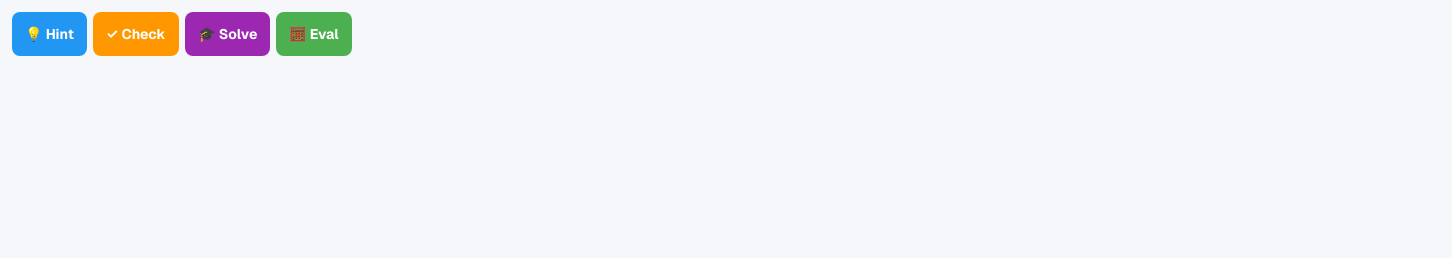
Scenario: MathTutorTool: a cloud refusal › a real outage still says to check the internet
Step 1. Click the button with test id "math-tutor-hint" → {"x": 49, "y": 34}, box [12,12,87,56]
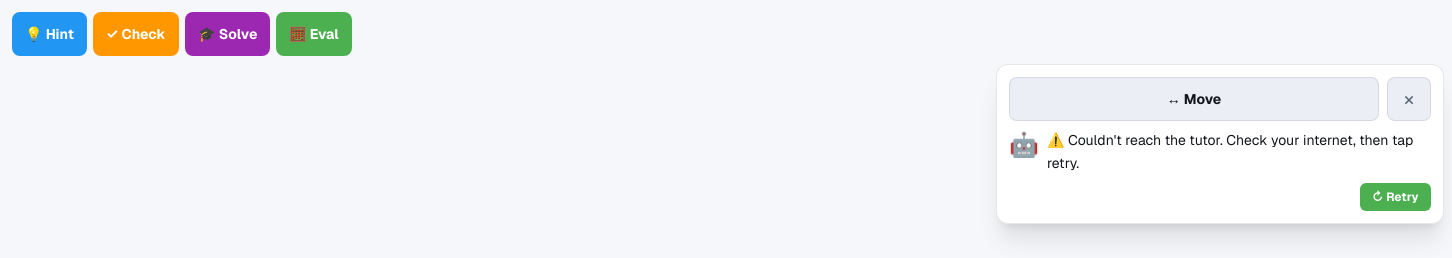
Result: the text "Check your internet" is shown at [1047,131,1413,172]
